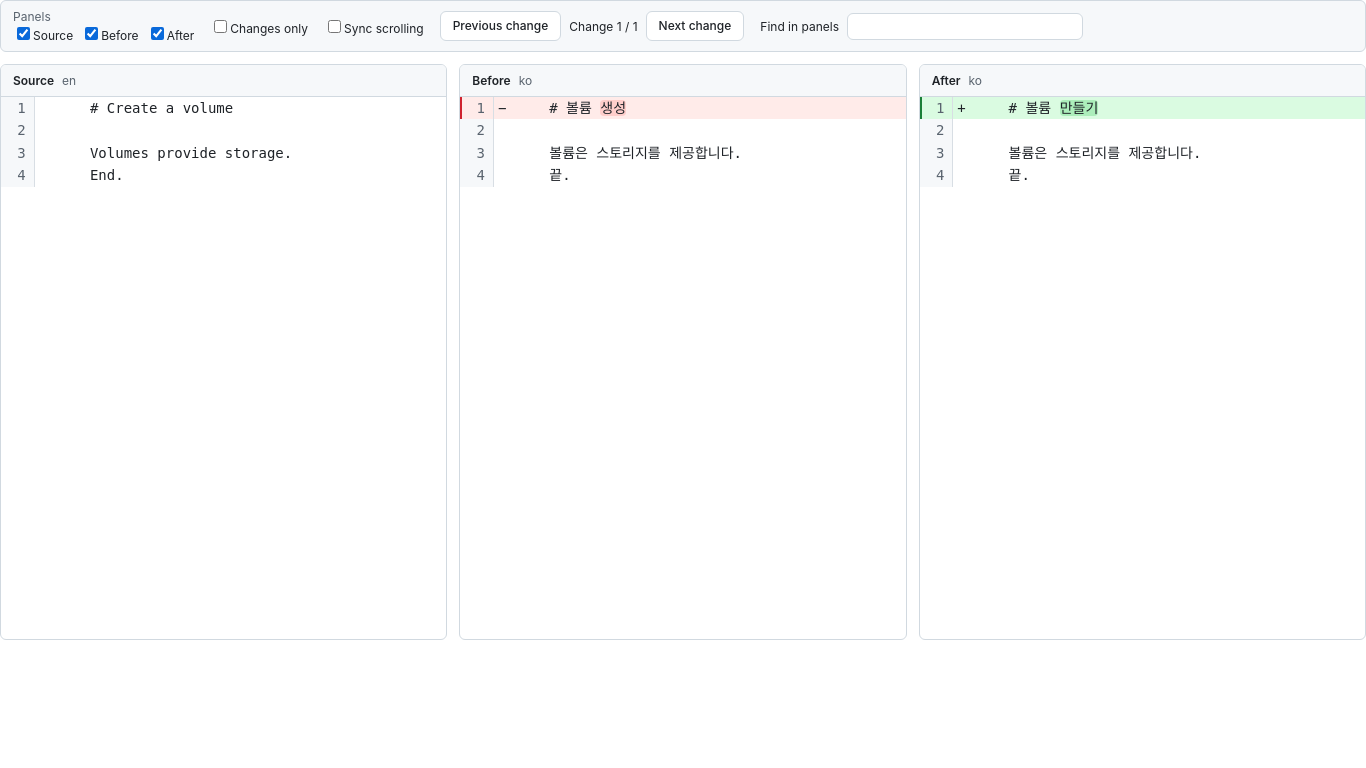
three panels › prevents hiding the last panel
Step 1. Click the checkbox labelled "Source" → (24, 34), box [17, 27, 30, 40]
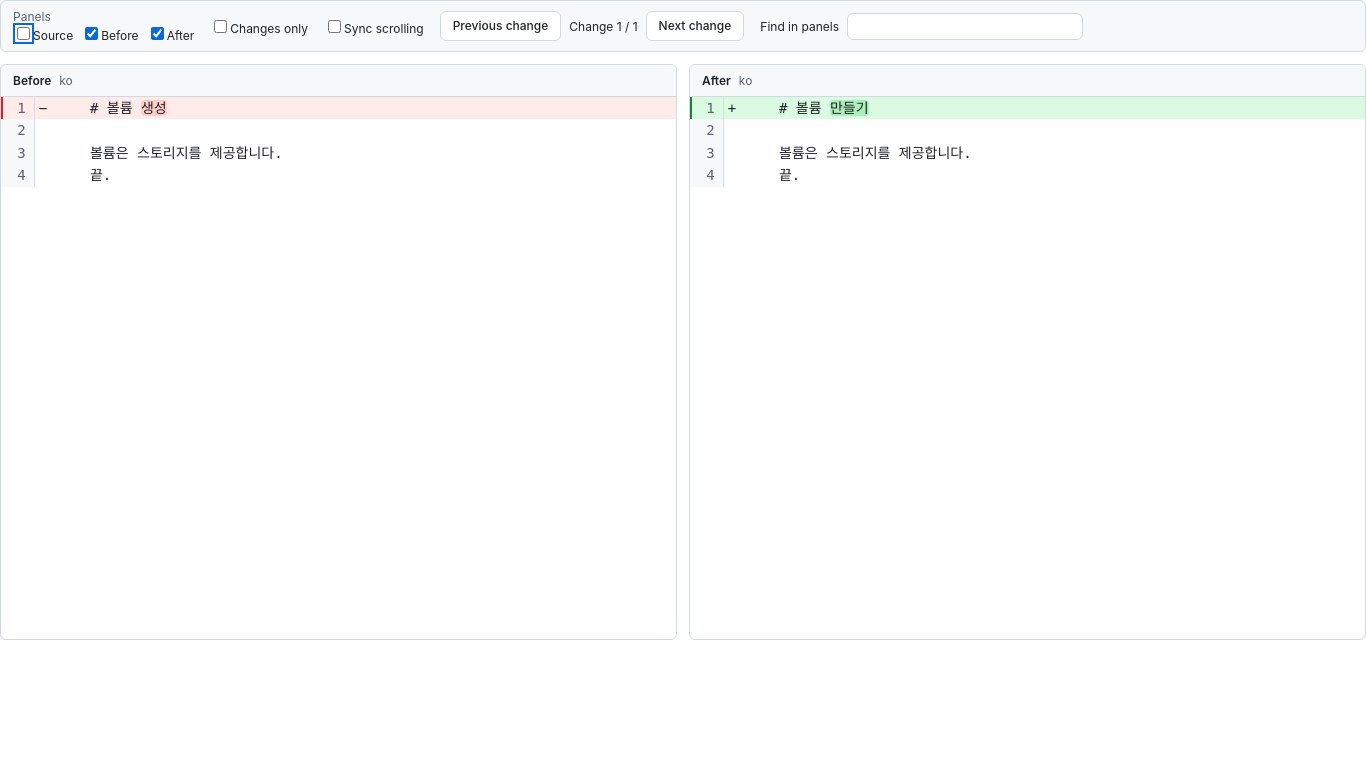
Step 2. Click the checkbox labelled "Before" → (92, 34), box [85, 27, 98, 40]
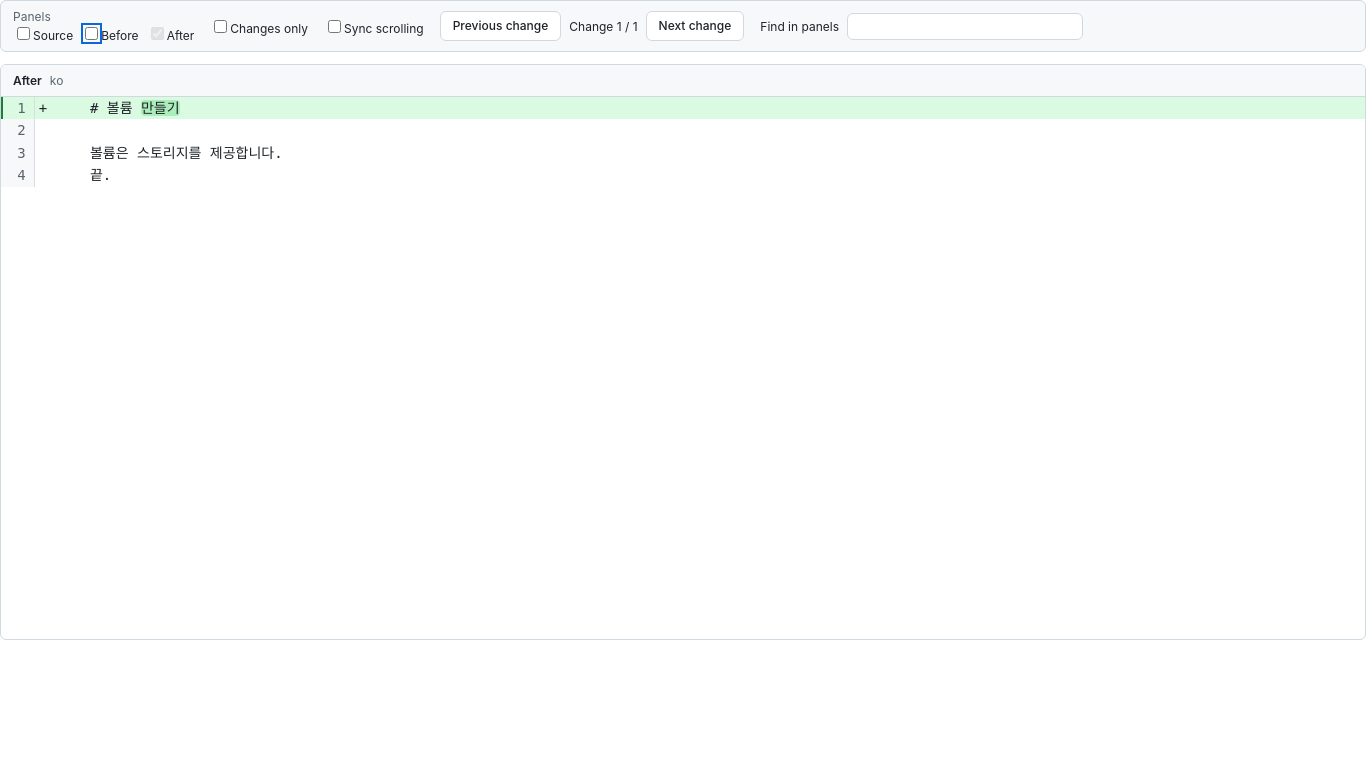
Result: the checkbox labelled "After" is disabled at [151, 27, 164, 40]
